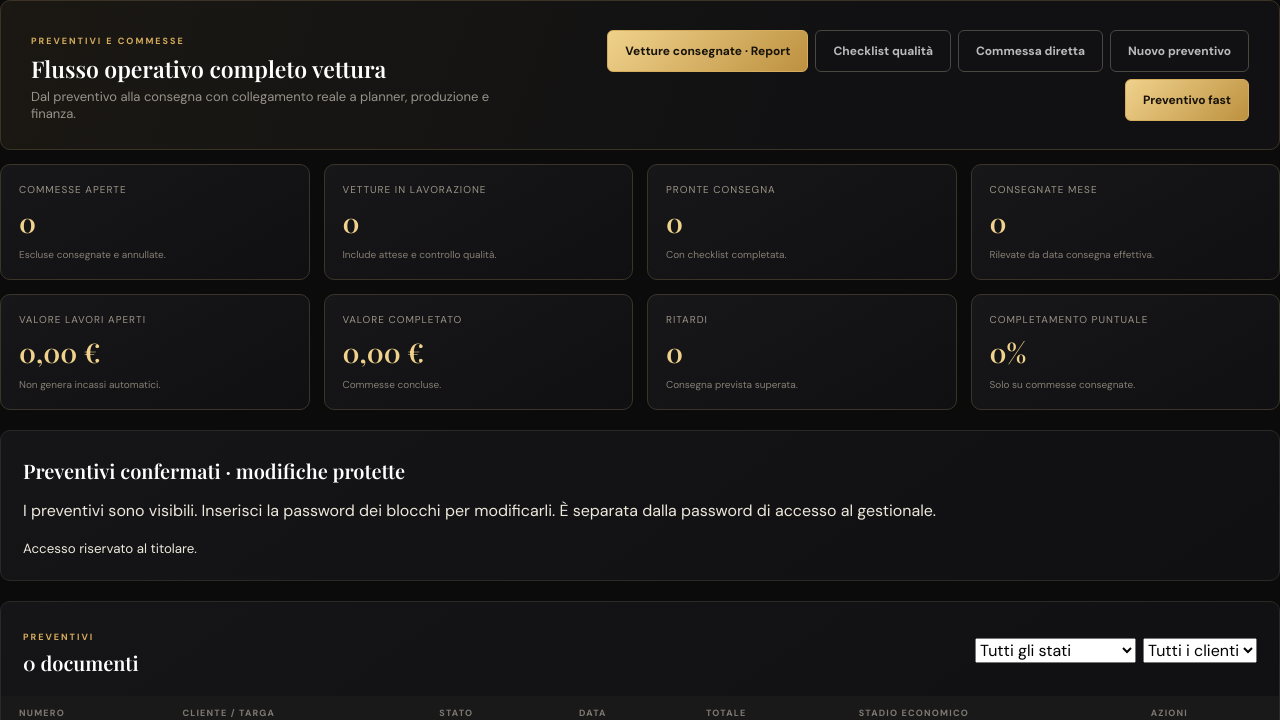
it: WorkflowPage esploso interattivo preventivo › usa la ricerca unica per recuperare automaticamente cliente e vettura esistenti
Click the button "Nuovo preventivo". click: click(1180, 50)
box: [1110,30,1249,72]
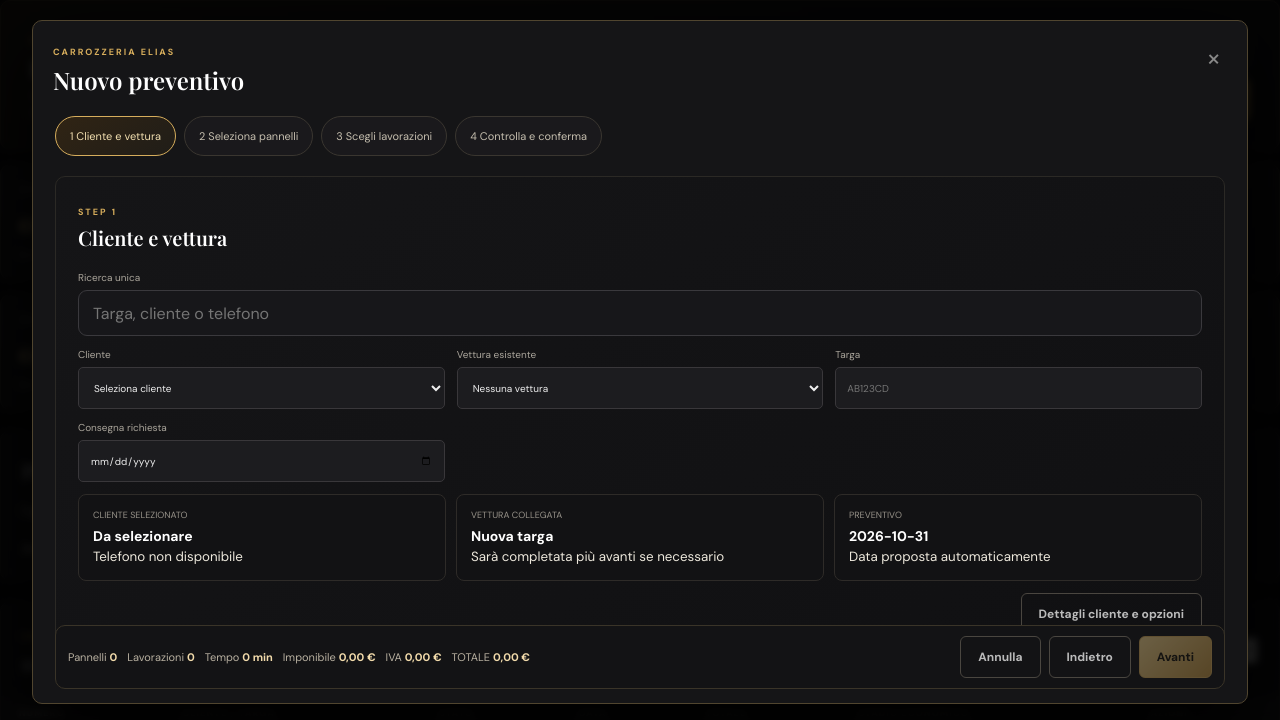
Type "AB123CD" into the field with placeholder "Targa, cliente o telefono". click: (640, 313)
box: [78,290,1202,336]
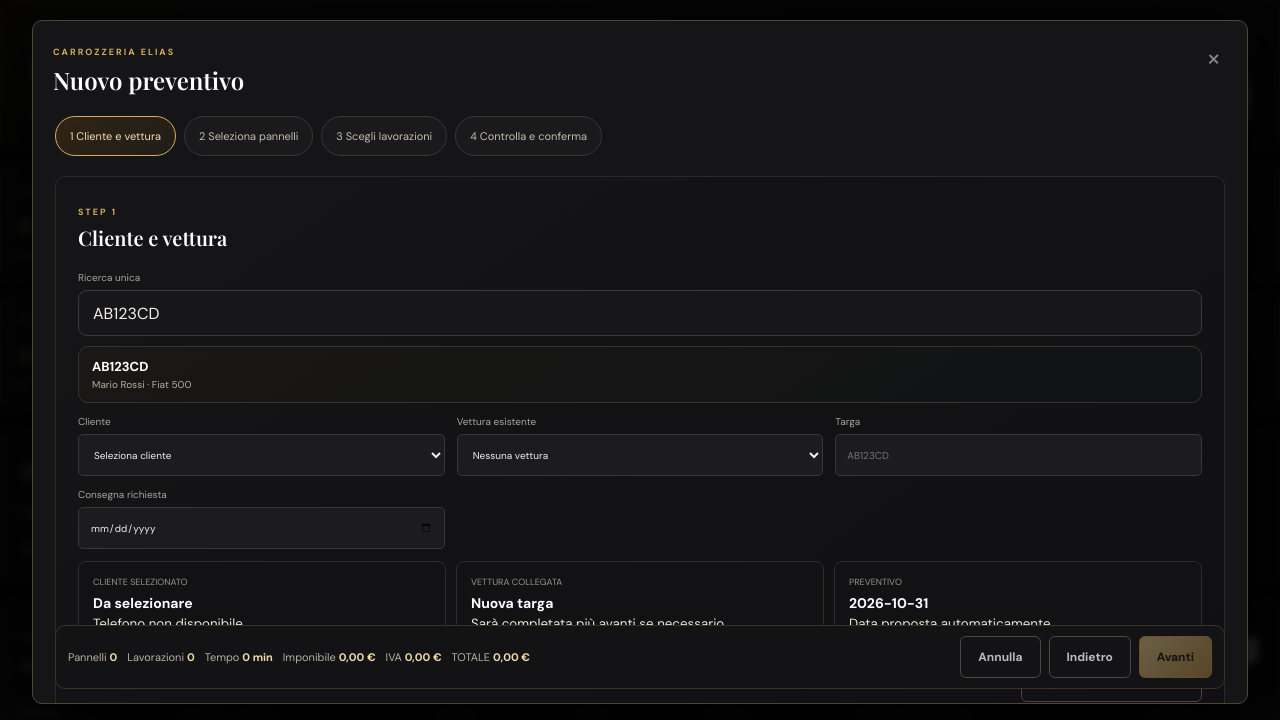
Click the button "AB123CD Mario Rossi · Fiat 500". click: click(120, 366)
box: [78,346,1202,403]
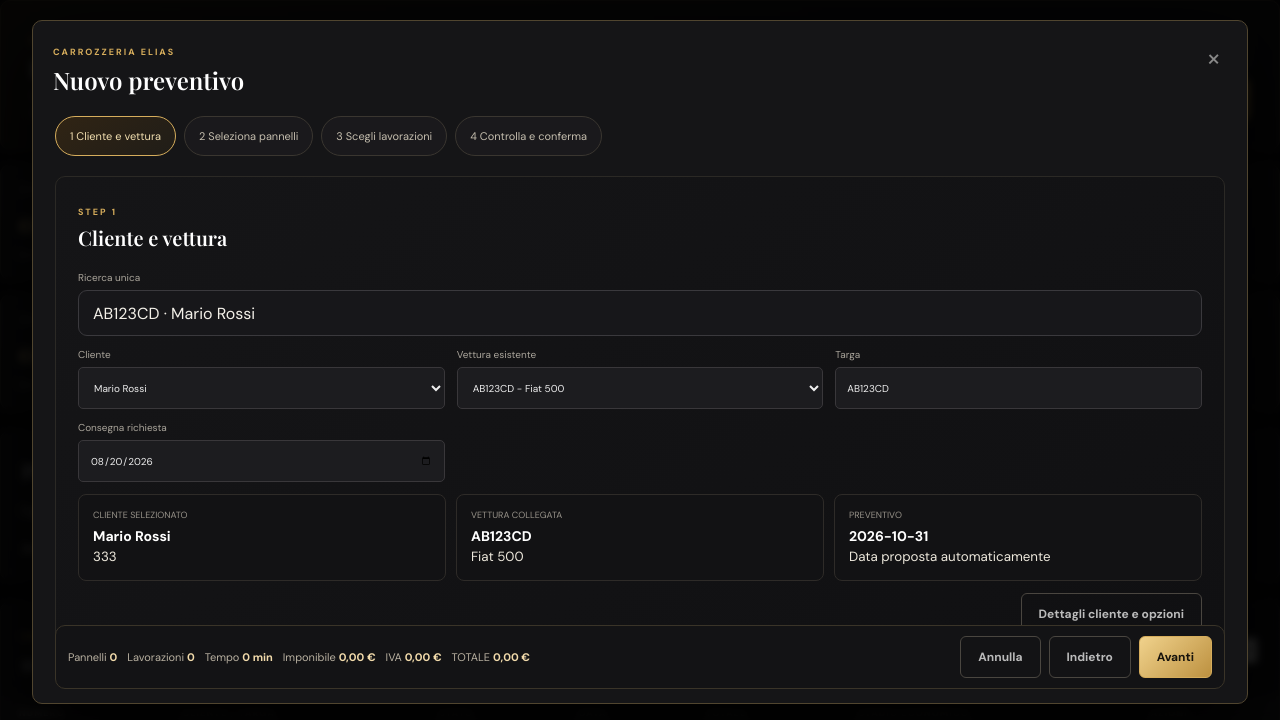
Result: the field showing "AB123CD" is shown at [835,367,1202,409]
Result: the dropdown showing "Mario Rossi" is shown at [78,367,445,409]
Result: the dropdown showing "AB123CD - Fiat 500" is shown at [457,367,823,409]
